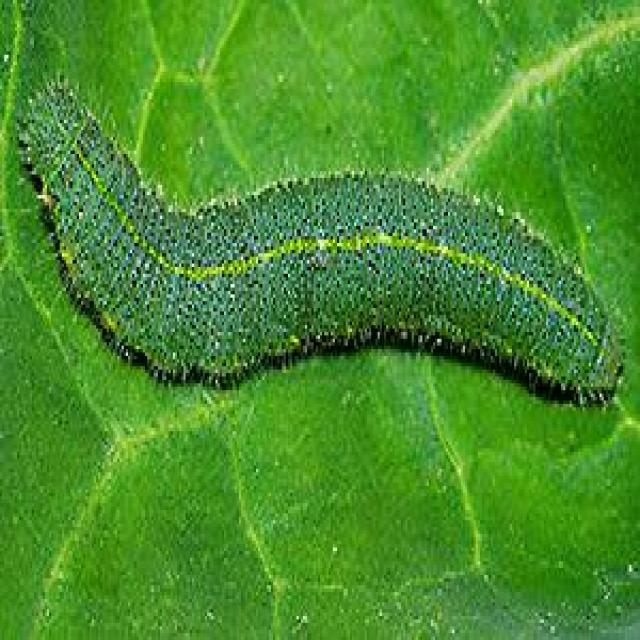armyworm: (28, 78, 631, 408)
